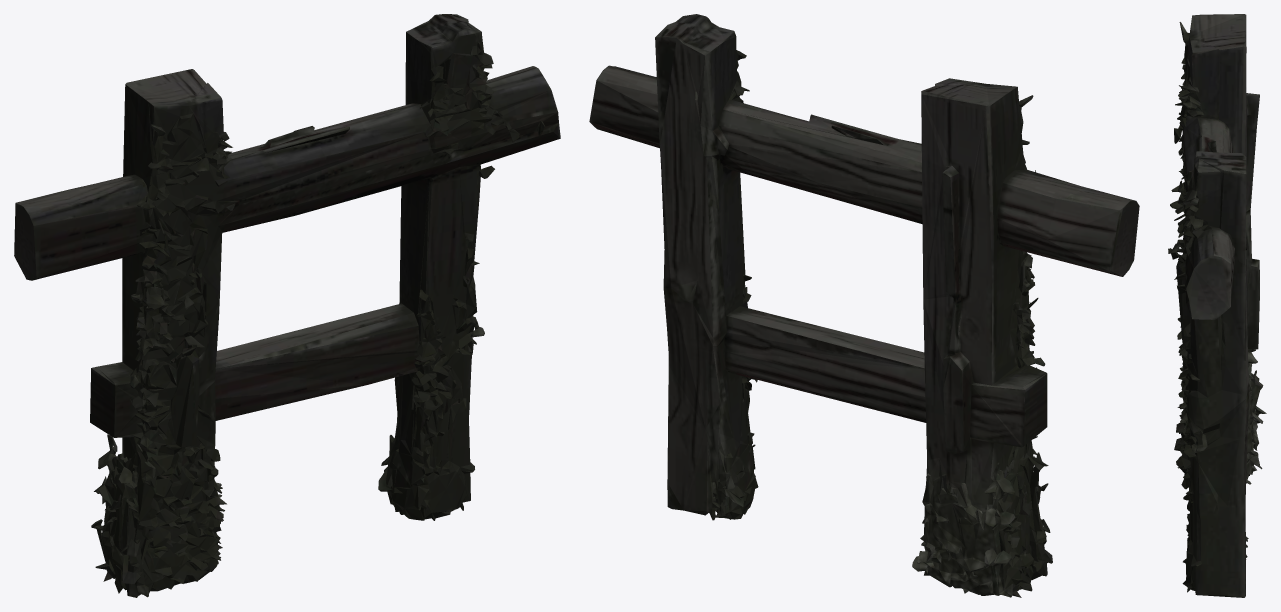
File: bog_fence_01.glb
The picture shows the model from 3 angles, left to right: view 1: azimuth 30°, elevation 25°; view 2: azimuth 150°, elevation 25°; view 3: azimuth 270°, elevation 25°; orthographic projection. The views are drawn at different scales.
Visible parts, largest first — view 1: geometry_0; view 2: geometry_0; view 3: geometry_0.
Boxes of the visible parts, x1=… form: geometry_0: x1=14, y1=14, x2=560, y2=597; geometry_0: x1=589, y1=14, x2=1139, y2=597; geometry_0: x1=1168, y1=14, x2=1266, y2=597.
Bounding box in the file's own units: 0.9979 × 0.8864 × 0.1754.
Materials: 1 (1 with a texture image).
